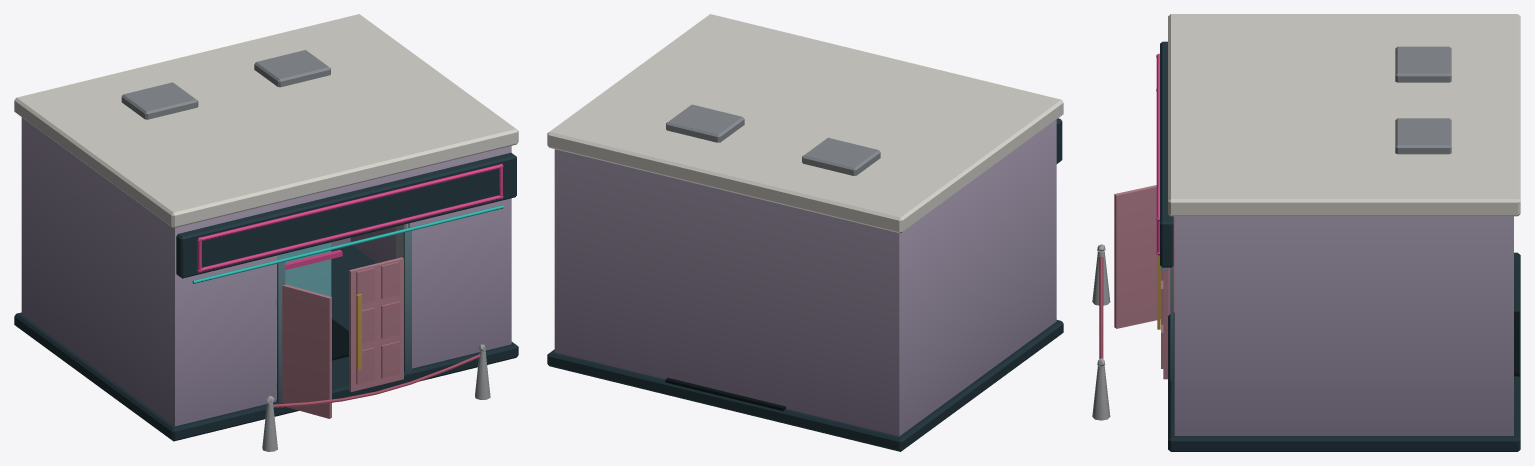
Rendered from nightclub_facade.glb.
The picture shows the model from 3 angles, left to right: view 1: azimuth 30°, elevation 25°; view 2: azimuth 150°, elevation 25°; view 3: azimuth 270°, elevation 25°; orthographic projection. The views are drawn at different scales.
Parts seen in each view (by area): view 1: nightclub_facade; view 2: nightclub_facade; view 3: nightclub_facade.
Boxes of the visible parts, box(x1,y1,x2,y2) form: nightclub_facade: box(14, 14, 518, 451); nightclub_facade: box(547, 14, 1063, 451); nightclub_facade: box(1092, 14, 1520, 451).
Size of the model in its own units: 7.84 by 5.1 by 7.58.
